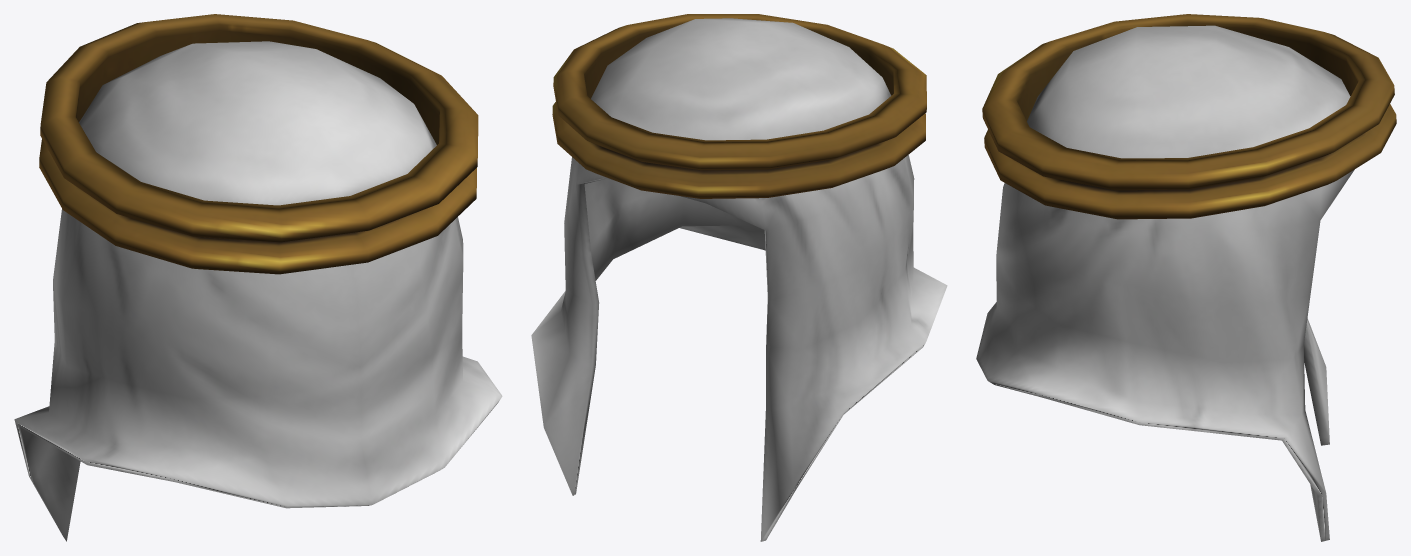
Rendered from Arab Headdress.obj.
3 views of the same model, side by side, from view 1: azimuth 30°, elevation 25°; view 2: azimuth 150°, elevation 25°; view 3: azimuth 270°, elevation 25° (orthographic). The views are drawn at different scales.
Parts seen in each view (by area): view 1: Handle1; view 2: Handle1; view 3: Handle1.
Boxes of the visible parts, left/top/right/bottom form: Handle1: left=14, top=14, right=502, bottom=541; Handle1: left=531, top=14, right=947, bottom=541; Handle1: left=976, top=14, right=1396, bottom=541.
Size of the model in its own units: 1.6 by 1.95 by 1.67.
1 material, 1 textured.
